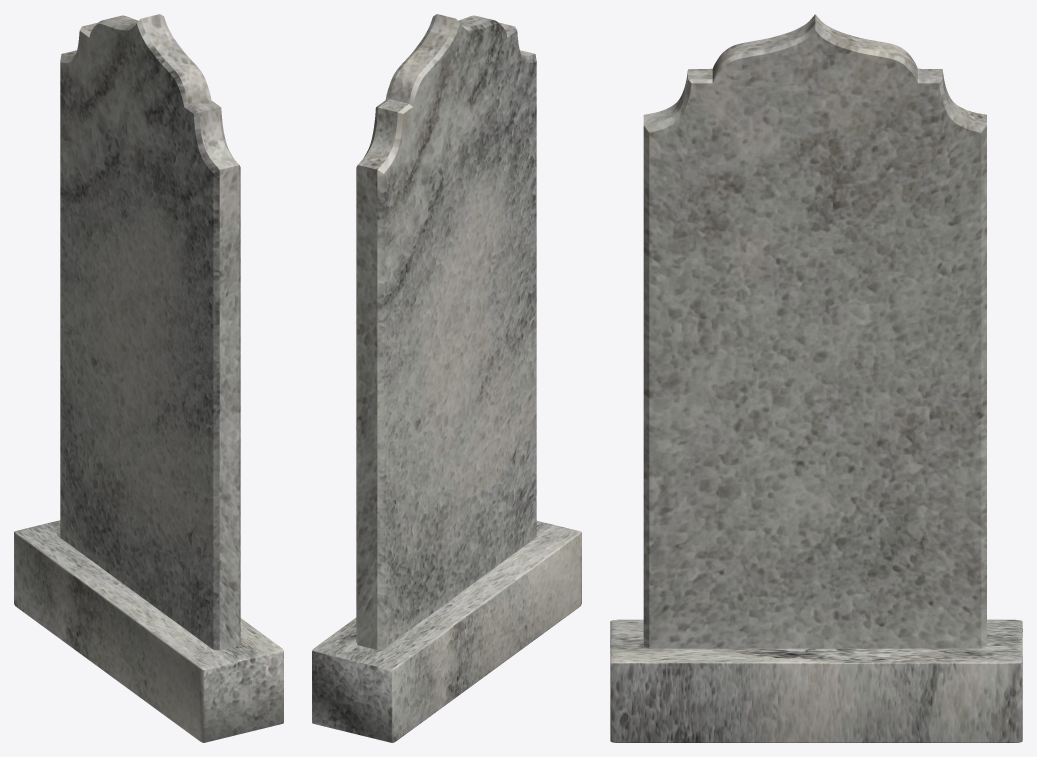
Rendered from Памятник Полевской [marble_u_u] (100).glb.
3 renders of one model, left to right at view 1: azimuth 30°, elevation 25°; view 2: azimuth 150°, elevation 25°; view 3: azimuth 270°, elevation 25°, orthographic. The views are drawn at different scales.
Parts seen in each view (by area): view 1: Куб.130; view 2: Куб.130; view 3: Куб.130.
Part boxes in pixels (<box>): Куб.130: <box>14,14,283,742</box>; Куб.130: <box>312,14,581,742</box>; Куб.130: <box>610,14,1022,742</box>.
Size of the model in its own units: 0.15 by 1.13 by 0.6.
Materials: 1 (1 with a texture image).
